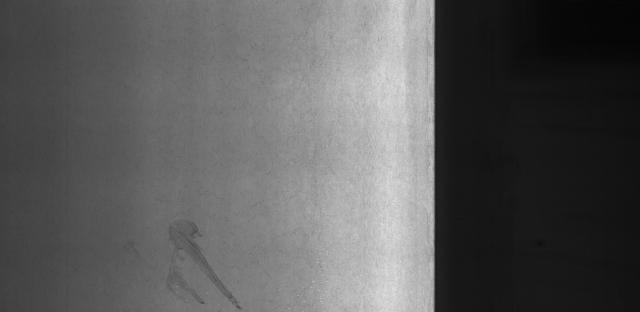water_spot: (118, 210, 253, 310)
